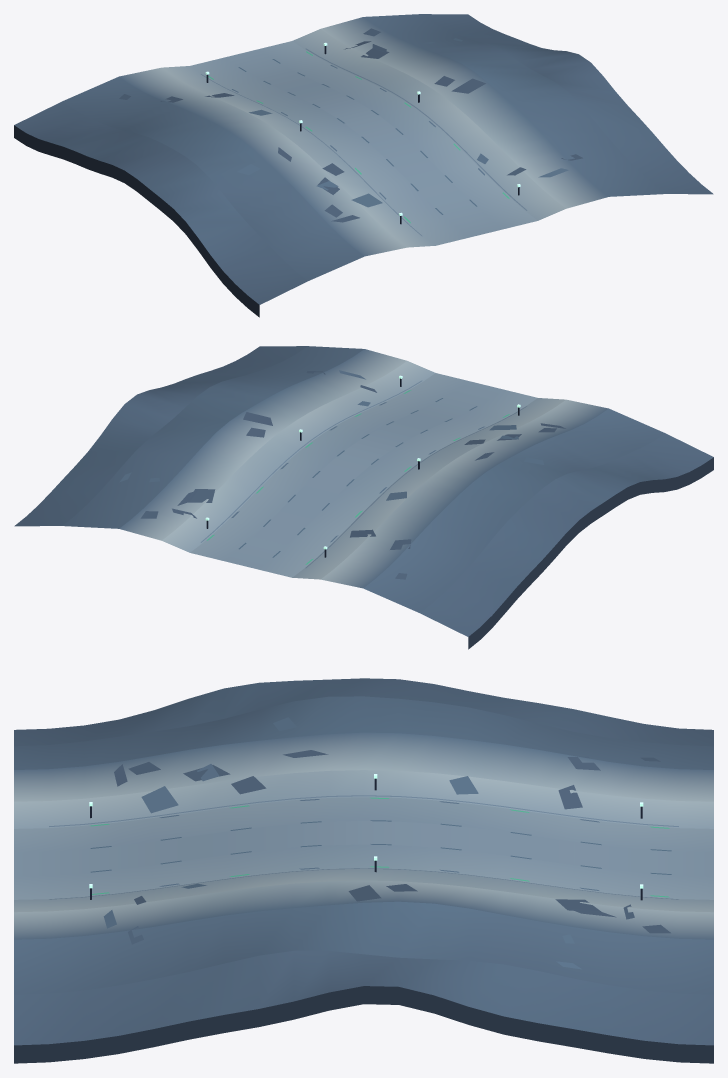
Rendered from 03-slope.glb.
3 renders of one model, top to bottom at view 1: azimuth 30°, elevation 25°; view 2: azimuth 150°, elevation 25°; view 3: azimuth 270°, elevation 25°, orthographic. The views are drawn at different scales.
Visible parts, largest first — view 1: slope; view 2: slope; view 3: slope.
Boxes of the visible parts, x1,y1,x2,y2 form: slope: (14, 14, 713, 317); slope: (14, 346, 713, 649); slope: (14, 678, 713, 1063).
Bounding box in the file's own units: 32 × 4.25 × 30.
